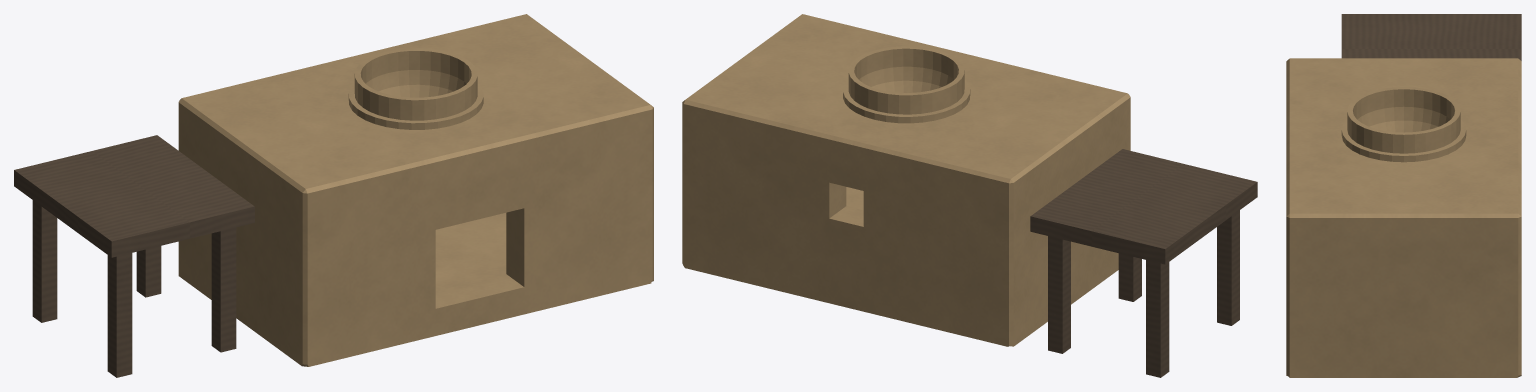
File: W2-stove-A-LOD1.glb
3 views of the same model, side by side, from view 1: azimuth 30°, elevation 25°; view 2: azimuth 150°, elevation 25°; view 3: azimuth 270°, elevation 25° (orthographic). The views are drawn at different scales.
Parts seen in each view (by area): view 1: C_LIFE_W2_STOVE_A_V1__A_earth, C_LIFE_W2_STOVE_A_V1__A_timber; view 2: C_LIFE_W2_STOVE_A_V1__A_earth, C_LIFE_W2_STOVE_A_V1__A_timber; view 3: C_LIFE_W2_STOVE_A_V1__A_earth, C_LIFE_W2_STOVE_A_V1__A_timber.
Boxes of the visible parts, x1=… form: C_LIFE_W2_STOVE_A_V1__A_earth: x1=178, y1=14, x2=653, y2=366; C_LIFE_W2_STOVE_A_V1__A_timber: x1=14, y1=135, x2=254, y2=377; C_LIFE_W2_STOVE_A_V1__A_earth: x1=682, y1=14, x2=1130, y2=346; C_LIFE_W2_STOVE_A_V1__A_timber: x1=1030, y1=149, x2=1257, y2=377; C_LIFE_W2_STOVE_A_V1__A_earth: x1=1286, y1=58, x2=1521, y2=377; C_LIFE_W2_STOVE_A_V1__A_timber: x1=1341, y1=14, x2=1521, y2=60.
Size of the model in its own units: 1.97 by 0.75 by 0.85.
2 materials, 2 textured.
